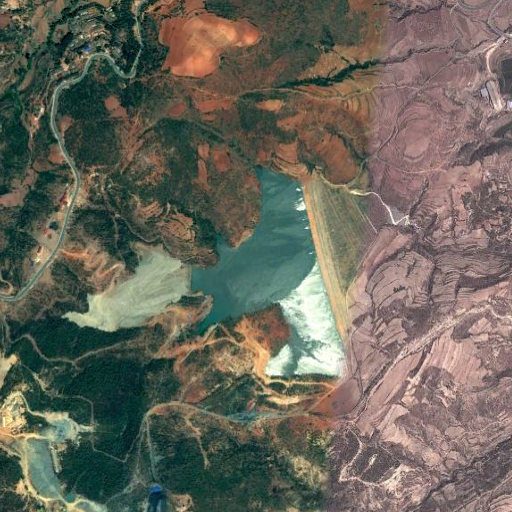tp: (61, 162, 379, 379)
